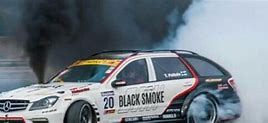smoke: (13, 1, 193, 81)
